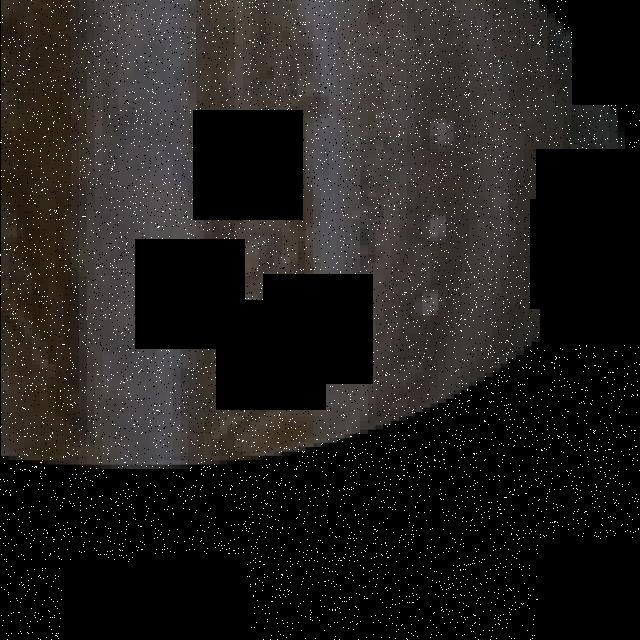Jupiter: (0, 0, 624, 469)
